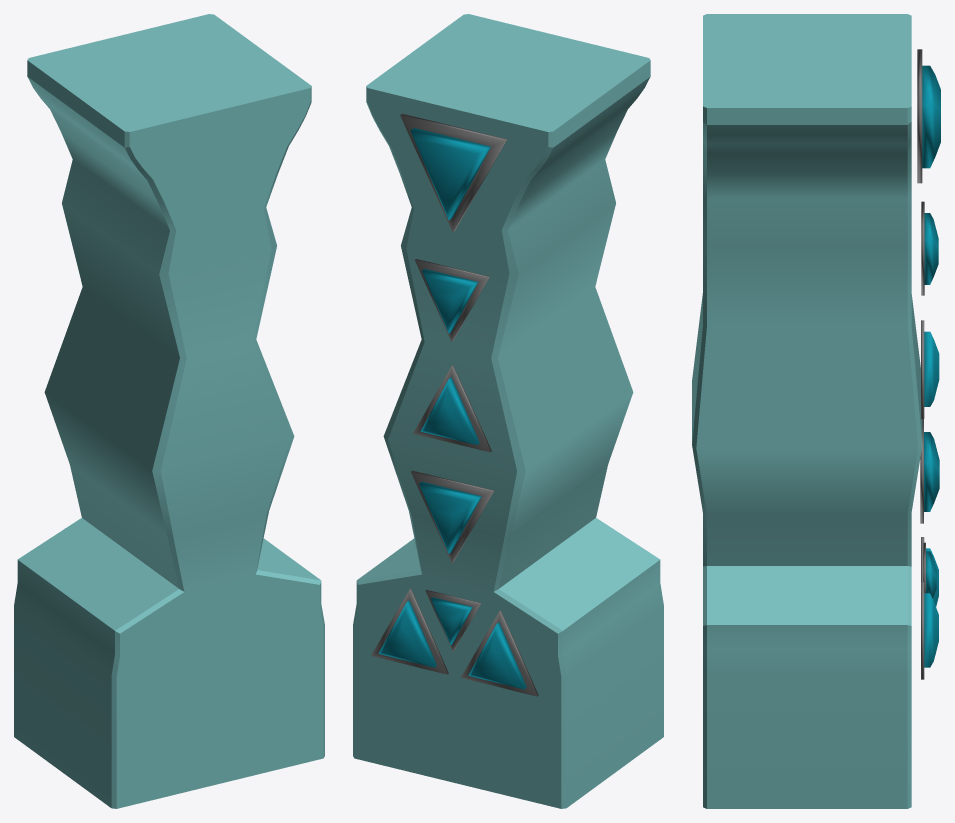
File: Building_2.fbx
3 renders of one model, left to right at view 1: azimuth 30°, elevation 25°; view 2: azimuth 150°, elevation 25°; view 3: azimuth 270°, elevation 25°, orthographic. The views are drawn at different scales.
Parts seen in each view (by area): view 1: pCube14; view 2: pCube14; view 3: pCube14.
Part boxes in pixels (left/top/right/bottom): pCube14: left=14, top=14, right=324, bottom=808; pCube14: left=353, top=14, right=663, bottom=808; pCube14: left=692, top=14, right=940, bottom=808.
Bounding box in the file's own units: 535 × 1615 × 525.
